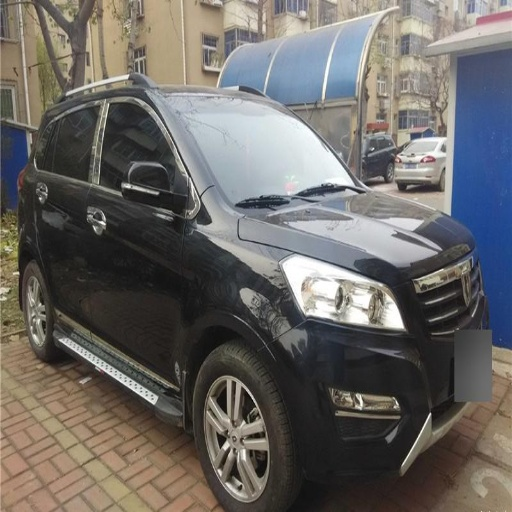front_bumper: (270, 253, 490, 477)
front_right_door: (86, 96, 198, 384)
front_right_light: (281, 257, 406, 332)
